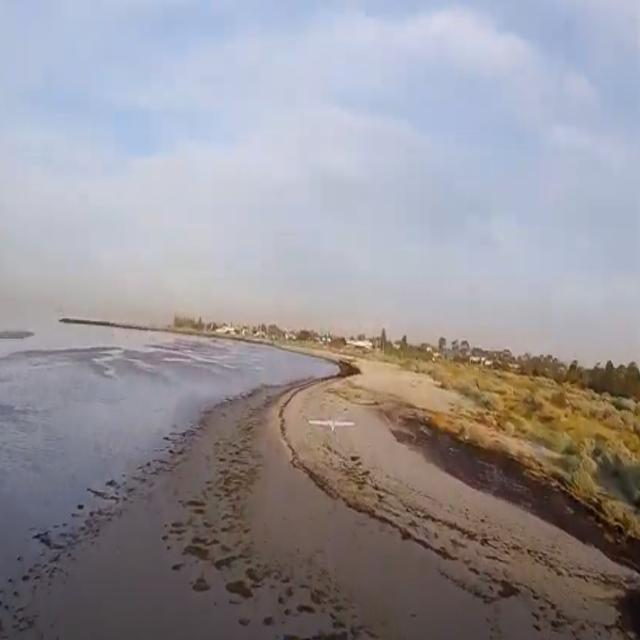iha: (302, 417, 349, 433)
